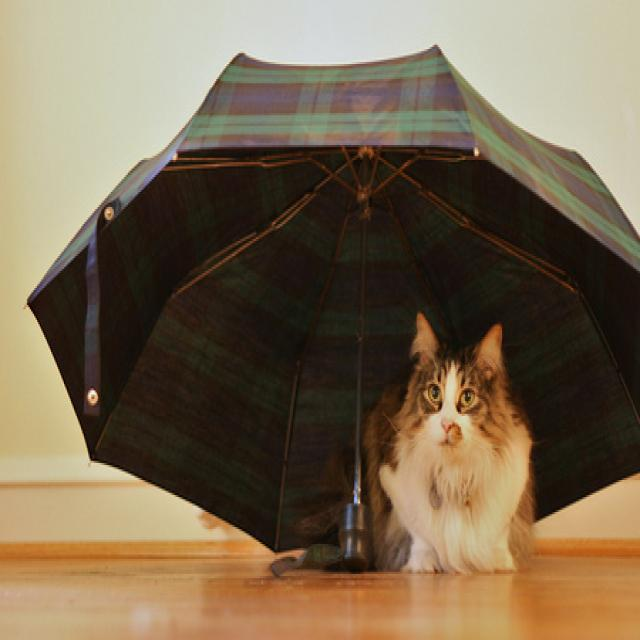Maine Coon: (292, 307, 540, 579)
